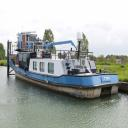tugboat: (7, 32, 122, 101)
